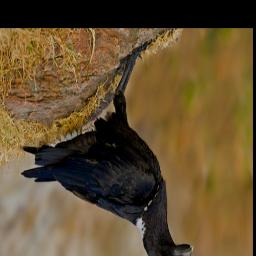Crow: (21, 40, 195, 256)
